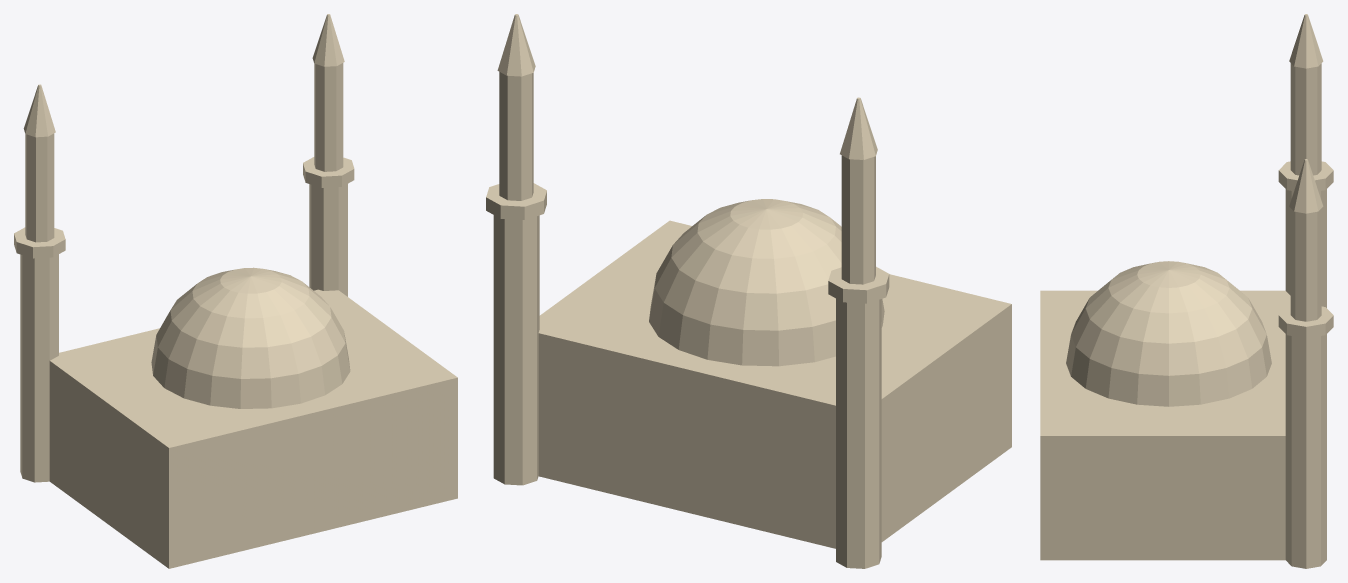
File: cairo.glb
3 renders of one model, left to right at view 1: azimuth 30°, elevation 25°; view 2: azimuth 150°, elevation 25°; view 3: azimuth 270°, elevation 25°, orthographic. The views are drawn at different scales.
Visible parts, largest first — view 1: Cube, Sphere, Cone, Cone.004, Cone.006, Cone.002, Cone.001, Cone.005, Cone.007, Cone.003; view 2: Cube, Sphere, Cone.004, Cone, Cone.002, Cone.006, Cone.001, Cone.005, Cone.003, Cone.007; view 3: Cube, Sphere, Cone.004, Cone.006, Cone.002, Cone, Cone.005, Cone.003, Cone.007, Cone.001.
Part boxes in pixels (x1=…): Cube: x1=49, y1=289, x2=457, y2=568; Sphere: x1=151, y1=267, x2=350, y2=408; Cone: x1=20, y1=254, x2=58, y2=482; Cone.004: x1=309, y1=184, x2=347, y2=296; Cone.006: x1=314, y1=63, x2=343, y2=171; Cone.002: x1=25, y1=133, x2=54, y2=242; Cone.001: x1=14, y1=227, x2=65, y2=258; Cone.005: x1=303, y1=157, x2=354, y2=187; Cone.007: x1=312, y1=14, x2=344, y2=66; Cone.003: x1=23, y1=84, x2=55, y2=137; Cube: x1=538, y1=220, x2=1011, y2=548; Sphere: x1=649, y1=199, x2=884, y2=366; Cone.004: x1=493, y1=215, x2=539, y2=485; Cone: x1=836, y1=298, x2=881, y2=568; Cone.002: x1=841, y1=155, x2=875, y2=284; Cone.006: x1=499, y1=72, x2=533, y2=200; Cone.001: x1=828, y1=266, x2=889, y2=303; Cone.005: x1=486, y1=183, x2=546, y2=219; Cone.003: x1=840, y1=97, x2=877, y2=159; Cone.007: x1=497, y1=14, x2=535, y2=76; Cube: x1=1040, y1=290, x2=1290, y2=560; Sphere: x1=1066, y1=261, x2=1271, y2=406; Cone.004: x1=1285, y1=334, x2=1326, y2=568; Cone.006: x1=1290, y1=208, x2=1321, y2=321; Cone.002: x1=1290, y1=63, x2=1321, y2=175; Cone: x1=1285, y1=189, x2=1326, y2=307; Cone.005: x1=1278, y1=306, x2=1333, y2=338; Cone.003: x1=1289, y1=14, x2=1323, y2=68; Cone.007: x1=1289, y1=159, x2=1323, y2=213; Cone.001: x1=1278, y1=161, x2=1333, y2=191.
Bounding box in the file's own units: 46.4 × 51.5 × 34.2.
